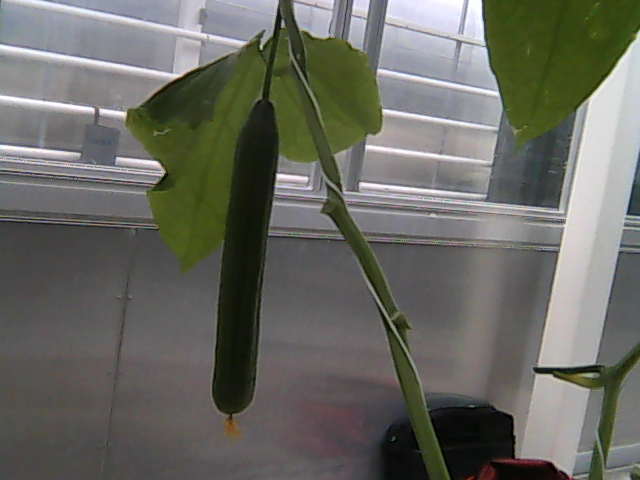concombre: (209, 87, 284, 444)
